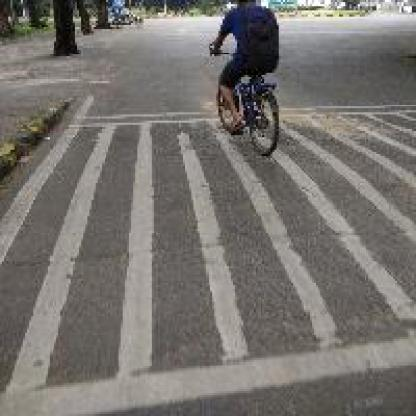Speed Bump: (2, 108, 210, 414), (289, 100, 410, 403)
